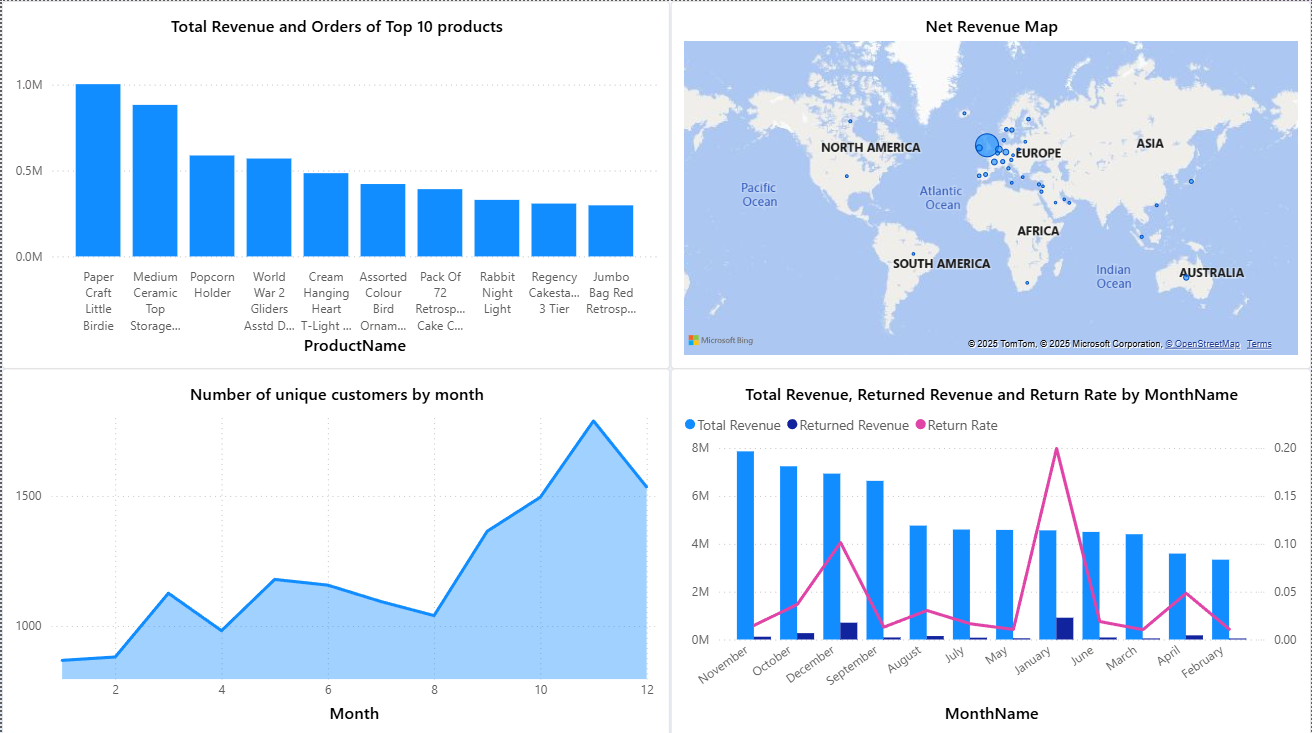

The dashboard page shown, as its layout file describes it:
{"tool":"powerbi","page":{"name":"Page 2","canvas":[1280,720],"ordinal":1},"visuals":[{"type":"lineStackedColumnComboChart","title":"Total Revenue and Orders of Top 10 products","fields":{"Category":["ProductInfo.ProductName"],"Y":["CustomerInfo.Total Revenue"]},"box":[0,0,653.8,359.8],"z":0},{"type":"map","title":"Net Revenue Map","fields":{"Category":["CustomerInfo.Country"],"Size":["CustomerInfo.Net Revenue"]},"box":[653.8,0,626.5,359.8],"z":1000},{"type":"areaChart","title":"Number of unique customers by month","fields":{"Category":["DimDate.Month"],"Y":["CustomerInfo.Distinct Customers"]},"box":[0,359.8,653.8,359.8],"z":1001},{"type":"lineClusteredColumnComboChart","fields":{"Category":["DimDate.MonthName"],"Y":["CustomerInfo.Total Revenue","CustomerInfo.Returned Revenue"],"Y2":["CustomerInfo.Return Rate"]},"box":[653.8,359.8,626.5,359.8],"z":1002}]}

Visuals, with their boxes in screenshot pixels (x1, y1, x2, y2), scaled from the page's 1280x720 canvas onto the 1312x733 screenshot:
"Total Revenue and Orders of Top 10 products" lineStackedColumnComboChart: detection(0, 0, 670, 366)
"Net Revenue Map" map: detection(670, 0, 1311, 366)
"Number of unique customers by month" areaChart: detection(0, 366, 670, 732)
lineClusteredColumnComboChart - DimDate.MonthName x CustomerInfo.Total Revenue: detection(670, 366, 1311, 732)
